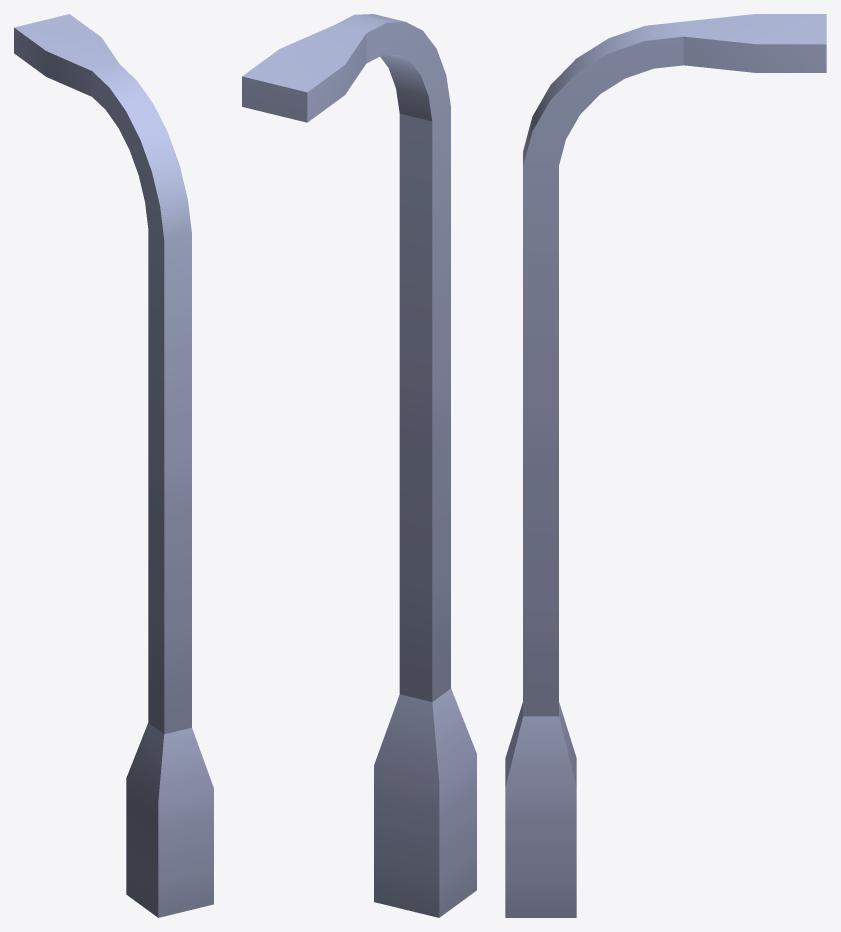
The model's file is street-lamp-curved.glb.
3 renders of one model, left to right at view 1: azimuth 30°, elevation 25°; view 2: azimuth 150°, elevation 25°; view 3: azimuth 270°, elevation 25°, orthographic. The views are drawn at different scales.
Visible parts, largest first — view 1: light-curved; view 2: light-curved; view 3: light-curved.
Boxes of the visible parts, left/top/right/bottom form: light-curved: left=14, top=14, right=213, bottom=917; light-curved: left=242, top=14, right=476, bottom=917; light-curved: left=505, top=14, right=826, bottom=917.
Bounding box in the file's own units: 0.4001 × 5.4 × 1.8.
Materials: 1 (1 with a texture image).
